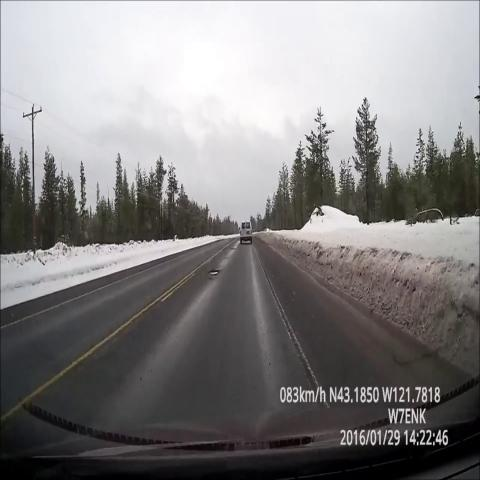pothole: (204, 260, 225, 287), (226, 240, 240, 256)
